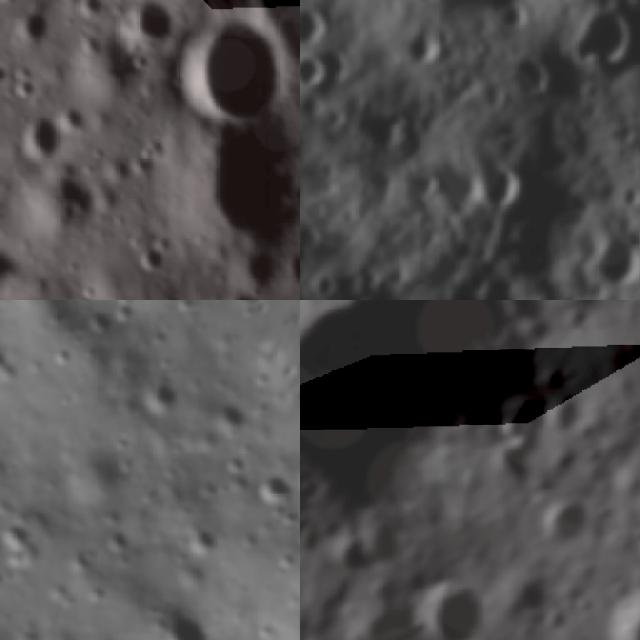crater: (300, 300, 537, 518), (170, 0, 299, 134), (196, 125, 300, 246), (57, 434, 141, 520), (551, 0, 640, 79), (408, 0, 556, 43), (410, 570, 493, 640), (582, 219, 640, 300), (495, 40, 561, 111), (470, 148, 532, 222), (197, 390, 261, 450), (148, 596, 225, 640), (542, 493, 594, 555), (0, 508, 50, 570), (112, 0, 174, 49), (136, 368, 190, 424), (164, 551, 216, 602), (507, 567, 553, 623), (232, 243, 278, 297), (21, 106, 63, 162), (325, 536, 372, 586), (253, 466, 300, 515), (397, 163, 444, 207), (14, 3, 59, 48), (131, 225, 173, 273), (300, 0, 338, 52), (539, 396, 583, 440), (181, 518, 223, 564), (360, 520, 402, 566), (81, 301, 123, 344), (64, 538, 106, 581), (99, 519, 141, 562), (40, 569, 81, 612), (601, 597, 640, 640), (300, 47, 331, 98), (104, 300, 147, 334), (555, 306, 595, 341), (46, 339, 80, 374), (300, 505, 317, 574), (504, 409, 530, 445), (222, 453, 252, 482), (286, 246, 300, 299), (300, 478, 325, 505), (567, 300, 607, 314), (0, 341, 13, 382), (170, 300, 198, 318), (106, 629, 148, 640)
